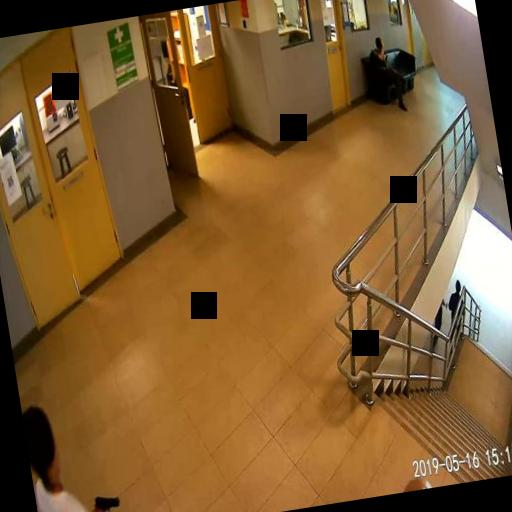Handgun: (90, 490, 121, 512)
